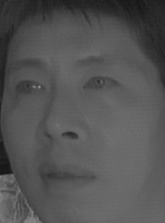eye: (82, 73, 120, 96), (12, 77, 48, 101)
mouth: (34, 157, 98, 198)
